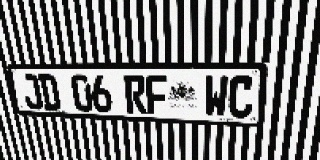0: (70, 74, 94, 112)
6: (89, 75, 113, 113)
C: (228, 75, 255, 119)
D: (37, 74, 61, 111)
F: (145, 75, 168, 115)
J: (20, 74, 44, 110)
R: (124, 75, 147, 114)
W: (204, 75, 229, 117)
